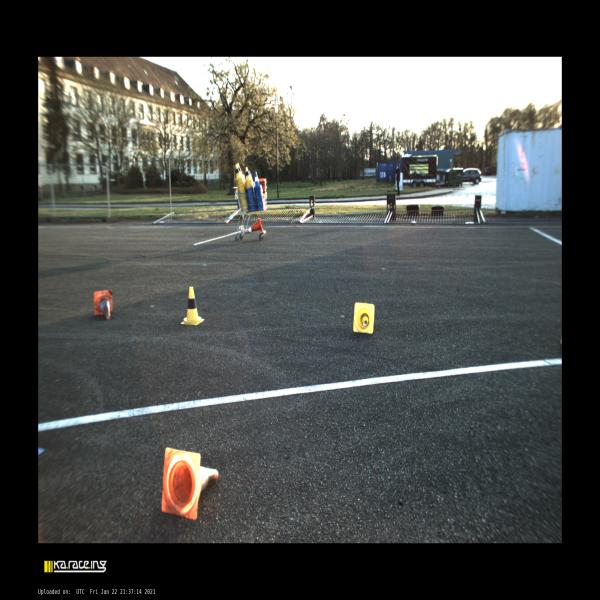orange_cone: (162, 448, 218, 519), (94, 290, 113, 319)
yellow_cone: (181, 286, 204, 324), (354, 302, 374, 334)
